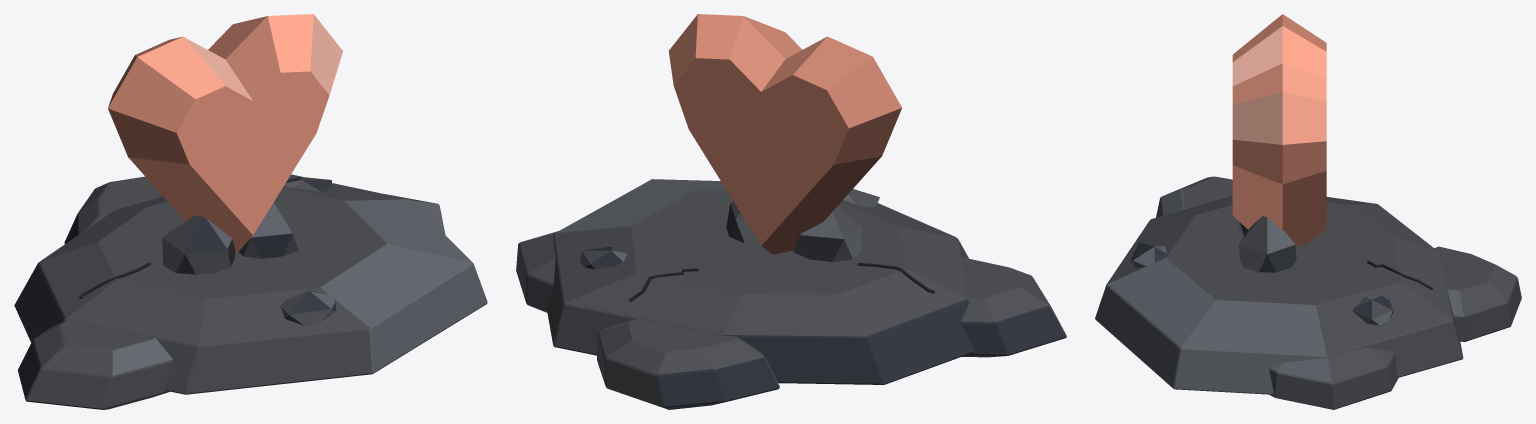
The model's file is BH_ORE_O12_Coracao_Lanternado_V02.glb.
The picture shows the model from 3 angles, left to right: view 1: azimuth 30°, elevation 25°; view 2: azimuth 150°, elevation 25°; view 3: azimuth 270°, elevation 25°; orthographic projection. The views are drawn at different scales.
Parts seen in each view (by area): view 1: Bedrock | primary.003, O12 | integrated cut heart.001, Bedrock | shoulder 1.003, O12 | integrated basalt cradle.002, Bedrock | shoulder 3.003, O12 | integrated basalt cradle.003, O12 | V02 embedded stone ledge.002, O12 | V02 embedded stone ledge.003, Bedrock | shoulder 2.003; view 2: Bedrock | primary.003, O12 | integrated cut heart.001, Bedrock | shoulder 3.003, Bedrock | shoulder 1.003, O12 | integrated basalt cradle.002, Bedrock | shoulder 2.003, O12 | V02 embedded stone ledge.003, O12 | integrated basalt cradle.003; view 3: Bedrock | primary.003, O12 | integrated cut heart.001, Bedrock | shoulder 2.003, Bedrock | shoulder 3.003, O12 | integrated basalt cradle.003, Bedrock | shoulder 1.003, O12 | V02 embedded stone ledge.003, O12 | V02 embedded stone ledge.002.
Part boxes in pixels (x1,y1,x2,y2): Bedrock | primary.003: (14, 174, 487, 394); O12 | integrated cut heart.001: (108, 14, 342, 254); Bedrock | shoulder 1.003: (18, 320, 173, 409); O12 | integrated basalt cradle.002: (162, 215, 235, 274); Bedrock | shoulder 3.003: (64, 176, 162, 243); O12 | integrated basalt cradle.003: (238, 199, 301, 258); O12 | V02 embedded stone ledge.002: (280, 290, 336, 325); O12 | V02 embedded stone ledge.003: (284, 176, 331, 191); Bedrock | shoulder 2.003: (386, 194, 445, 234); Bedrock | primary.003: (546, 179, 974, 384); O12 | integrated cut heart.001: (668, 14, 901, 254); Bedrock | shoulder 3.003: (597, 318, 779, 409); Bedrock | shoulder 1.003: (960, 258, 1066, 357); O12 | integrated basalt cradle.002: (793, 206, 861, 261); Bedrock | shoulder 2.003: (516, 231, 558, 312); O12 | V02 embedded stone ledge.003: (580, 247, 626, 269); O12 | integrated basalt cradle.003: (726, 201, 759, 244); Bedrock | primary.003: (1095, 196, 1463, 394); O12 | integrated cut heart.001: (1232, 14, 1326, 246); Bedrock | shoulder 2.003: (1269, 347, 1398, 409); Bedrock | shoulder 3.003: (1435, 246, 1521, 341); O12 | integrated basalt cradle.003: (1239, 216, 1296, 272); Bedrock | shoulder 1.003: (1156, 176, 1232, 217); O12 | V02 embedded stone ledge.003: (1353, 295, 1393, 325); O12 | V02 embedded stone ledge.002: (1130, 242, 1166, 268).
Bounding box in the file's own units: 3.1 × 1.84 × 2.62.
